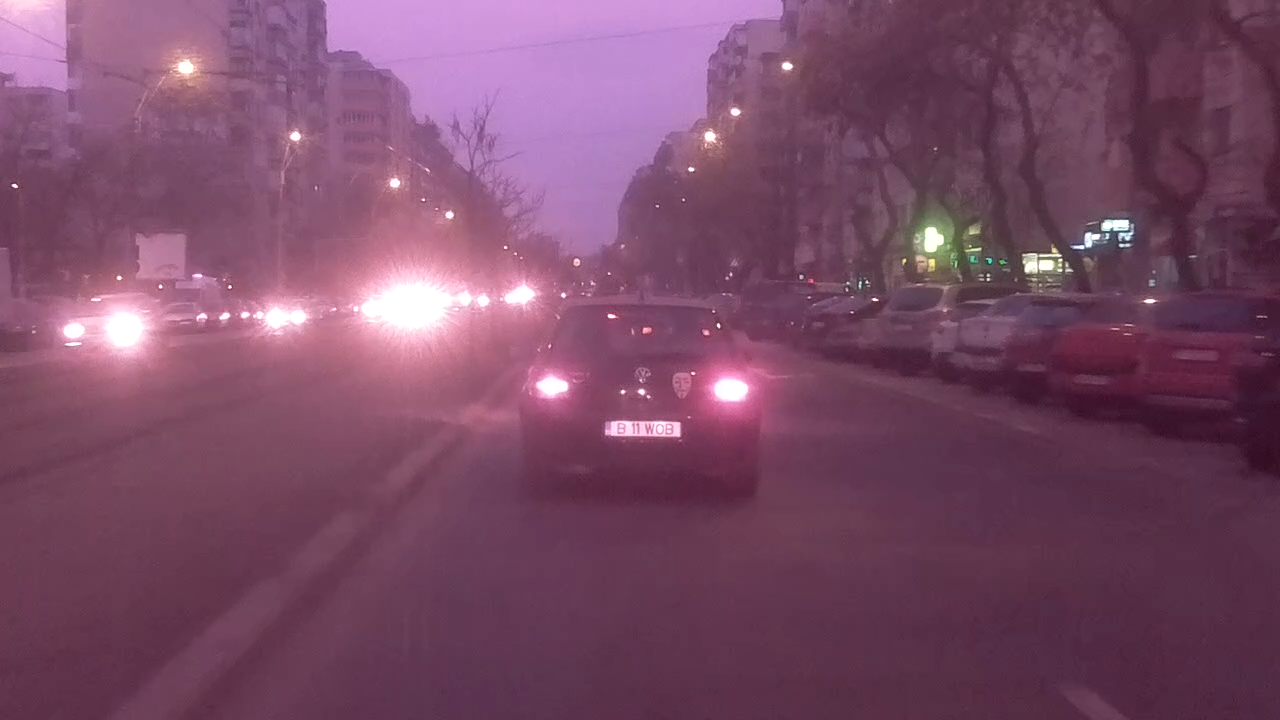license-plate: (601, 418, 684, 440)
